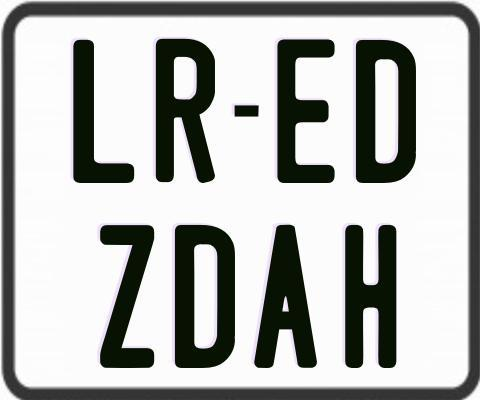A: (252, 222, 317, 371)
D: (175, 224, 241, 369), (356, 40, 420, 187)
E: (277, 37, 336, 182)
H: (342, 222, 394, 370)
L: (70, 40, 132, 184)
R: (155, 38, 217, 182)
Z: (98, 223, 156, 366)
